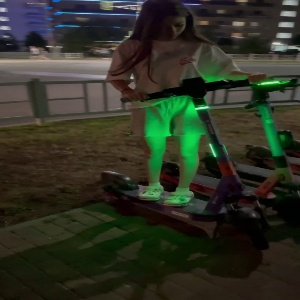human on a scooter: (99, 1, 270, 252)
